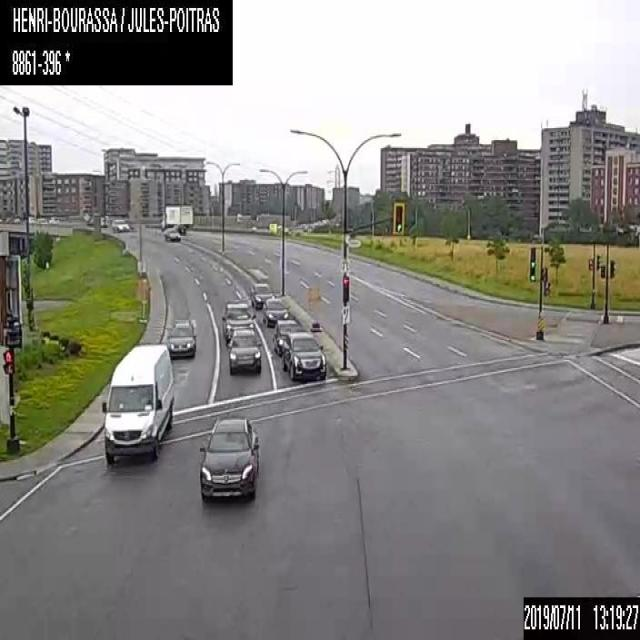vehicle: (99, 344, 174, 461), (197, 414, 260, 502), (284, 332, 326, 381), (226, 329, 261, 373), (222, 300, 256, 339), (273, 320, 304, 355), (167, 319, 195, 356), (159, 205, 193, 233), (262, 297, 287, 326), (250, 282, 274, 308), (110, 219, 130, 231), (163, 227, 180, 240)
